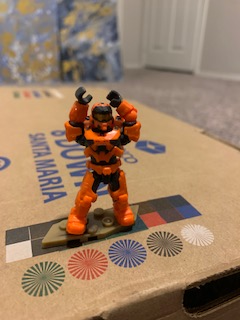spartan: (62, 86, 143, 233)
up: (62, 87, 141, 166)
